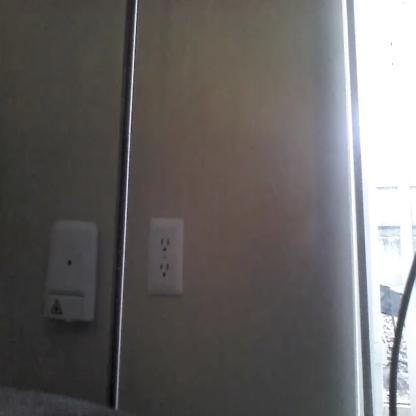OUTLET: (146, 218, 184, 296)
